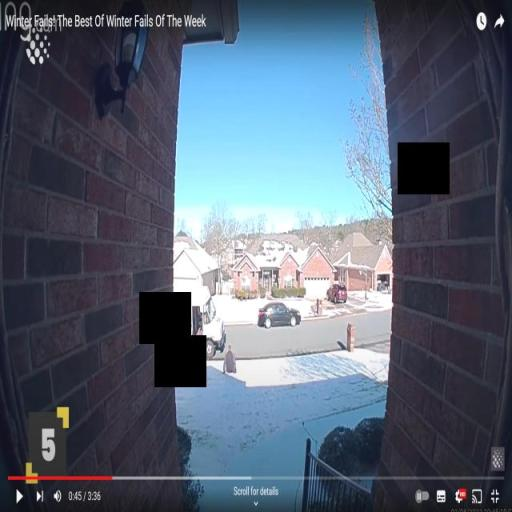Fall: (222, 344, 238, 377)
